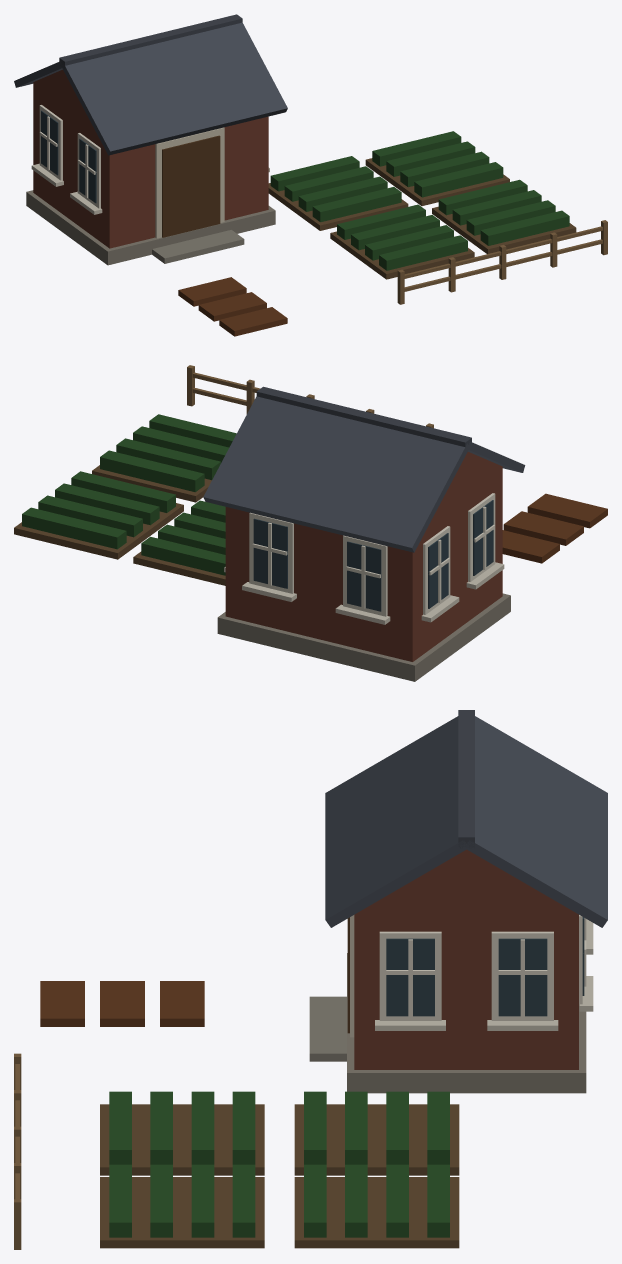
The model's file is procedural_coffee_farm@5.glb.
3 renders of one model, top to bottom at view 1: azimuth 30°, elevation 25°; view 2: azimuth 150°, elevation 25°; view 3: azimuth 270°, elevation 25°, orthographic. The views are drawn at different scales.
Visible parts, largest first — view 1: part_0; view 2: part_0; view 3: part_0.
Part boxes in pixels (x1,y1,x2,y2): part_0: (14,14,607,336); part_0: (14,365,607,681); part_0: (14,710,607,1249).
Size of the model in its own units: 8.86 by 3.83 by 7.94.
